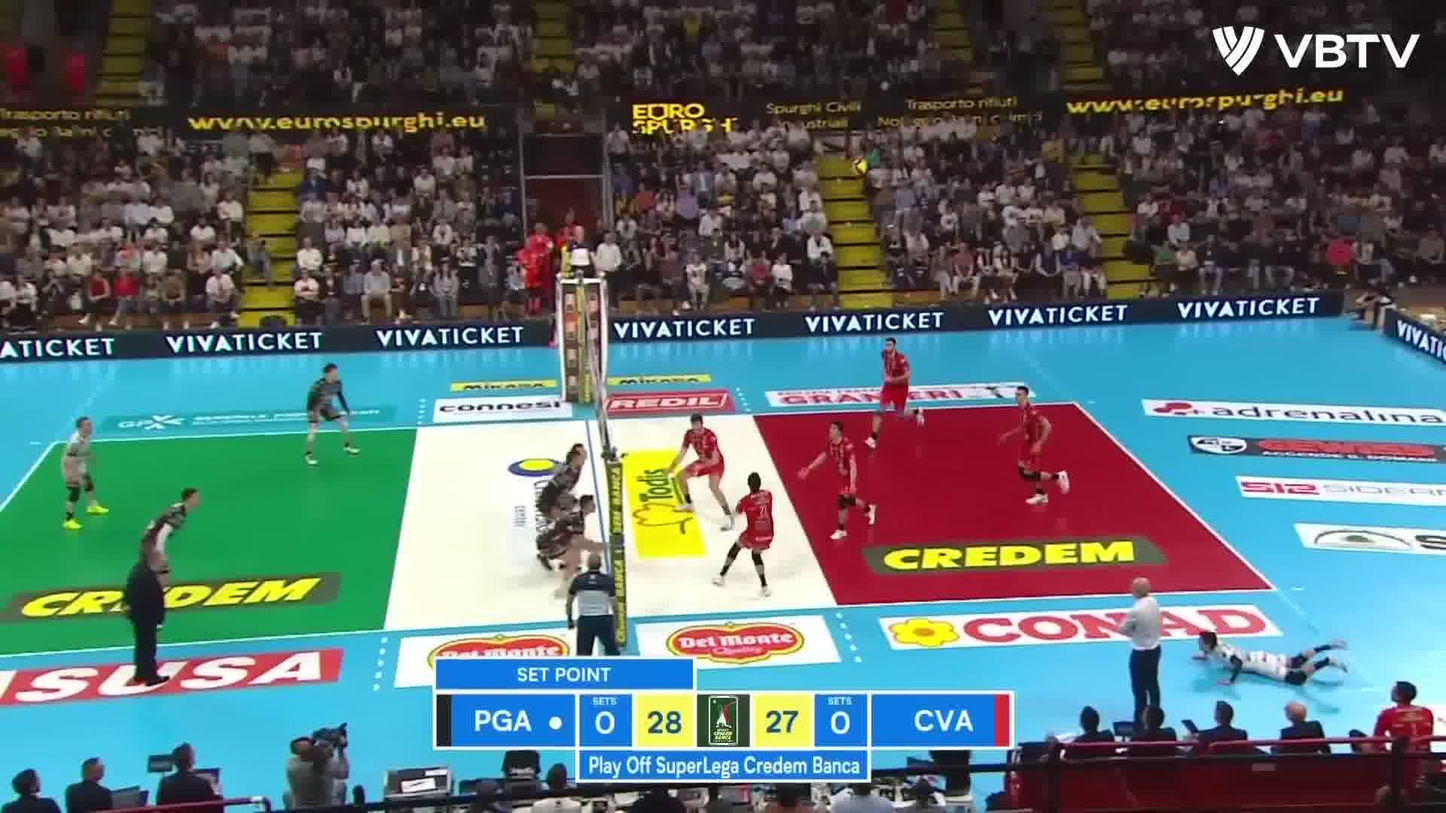balls: (853, 158, 869, 175)
